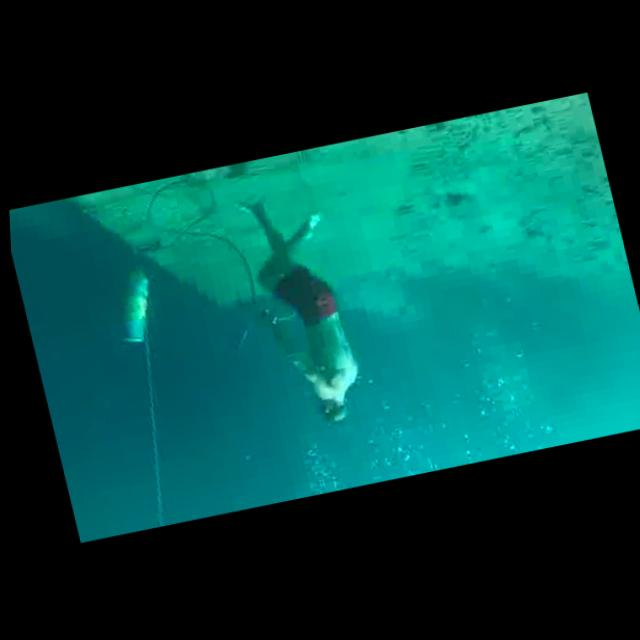human: (219, 175, 373, 440)
